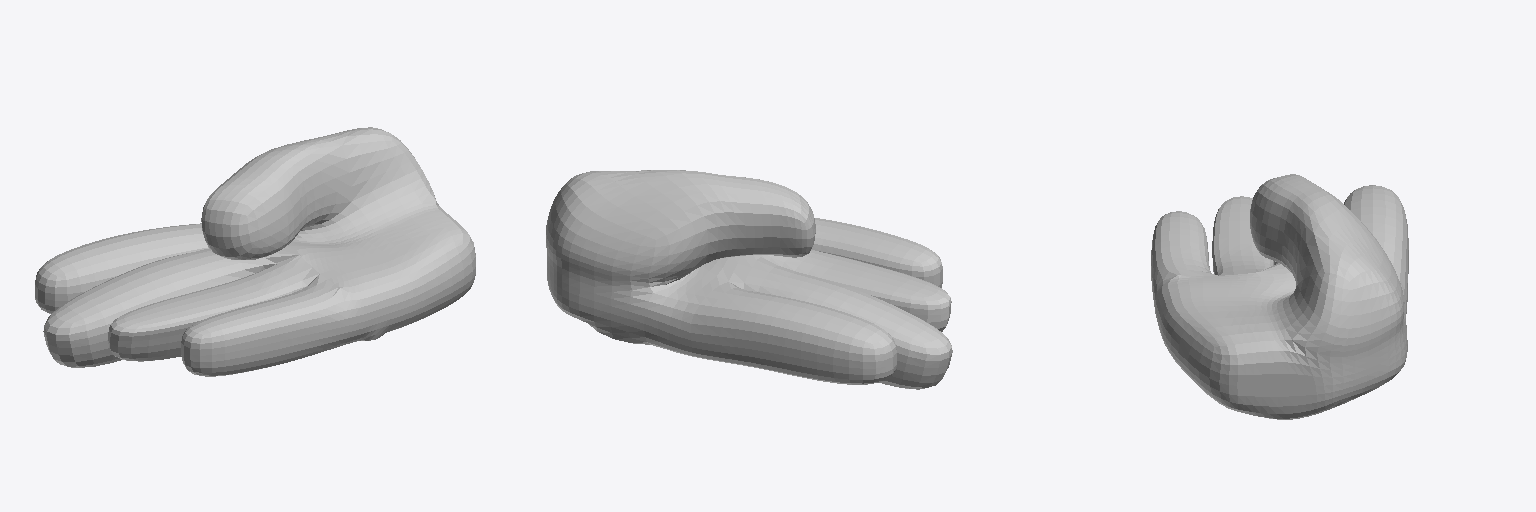
3 renders of one model, left to right at view 1: azimuth 30°, elevation 25°; view 2: azimuth 150°, elevation 25°; view 3: azimuth 270°, elevation 25°, orthographic.
Parts seen in each view (by area): view 1: B_HAND; view 2: B_HAND; view 3: B_HAND.
Boxes of the visible parts, x1,y1,x2,y2 form: B_HAND: [35, 127, 475, 376]; B_HAND: [546, 170, 952, 389]; B_HAND: [1151, 174, 1408, 419].
Bounding box in the file's own units: 184 × 72.93 × 105.